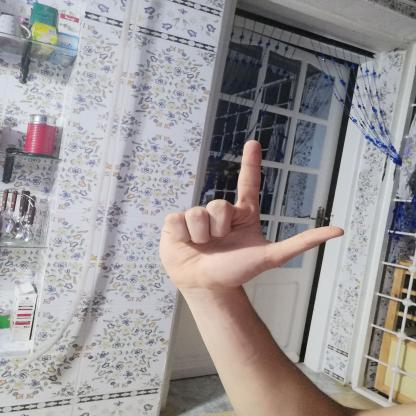LAAM: (140, 130, 357, 302)
